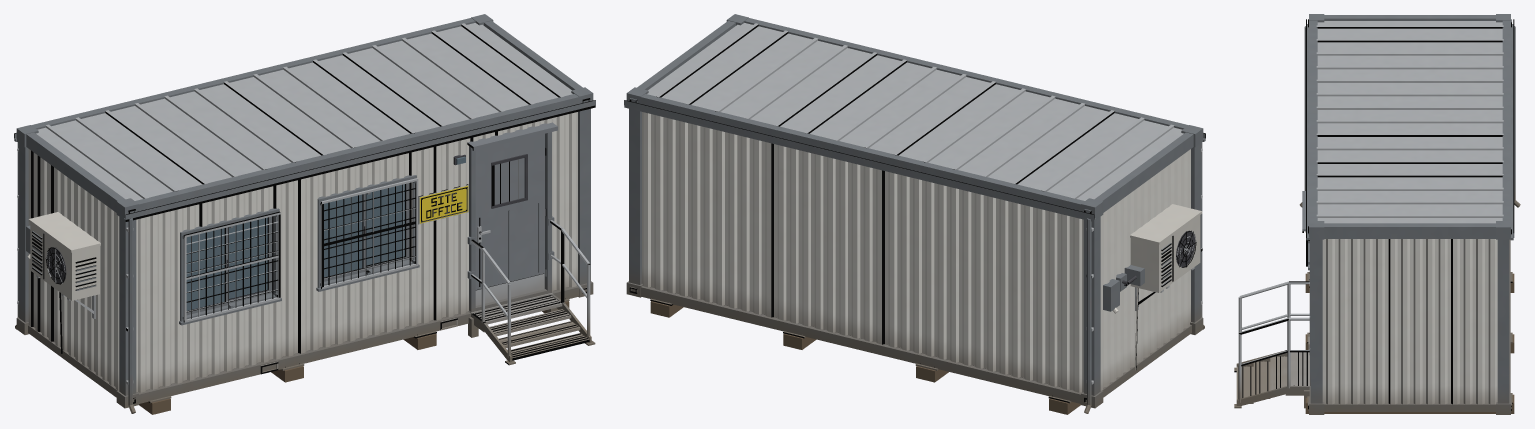
Rendered from SiteCabin.fbx.
The picture shows the model from 3 angles, left to right: view 1: azimuth 30°, elevation 25°; view 2: azimuth 150°, elevation 25°; view 3: azimuth 270°, elevation 25°; orthographic projection. The views are drawn at different scales.
Visible parts, largest first — view 1: SiteCabin; view 2: SiteCabin; view 3: SiteCabin.
Boxes of the visible parts, left/top/right/bottom form: SiteCabin: left=14, top=14, right=595, bottom=414; SiteCabin: left=624, top=14, right=1205, bottom=414; SiteCabin: left=1234, top=14, right=1520, bottom=414.
Size of the model in its own units: 635 by 260 by 340.
1 material, 1 textured.
